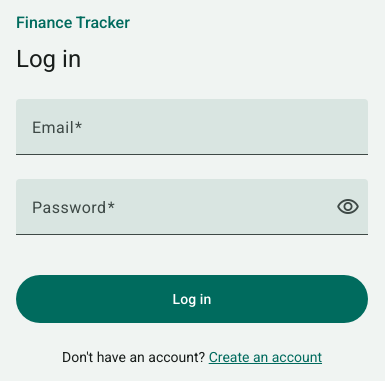
Scenario: LoginComponent › shows a loading state while logging in, then returns to returnUrl
Step 1. Type "kasia@example.com" into the field labelled "Email" → (192, 135), box x1=32 y1=123 x2=352 y2=147
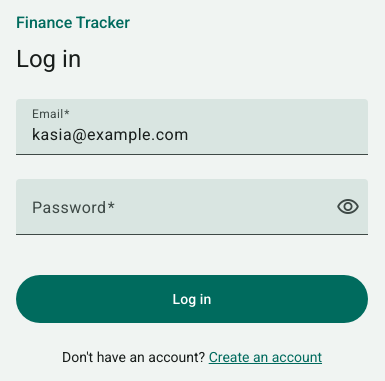
Step 2. Type "kasia2026" into the password field labelled "Password" → (178, 215), box x1=32 y1=203 x2=324 y2=227
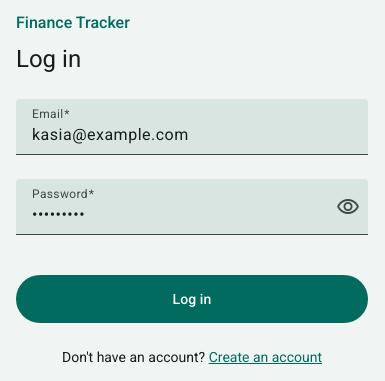
Step 3. Click the submit button → click(192, 299), box x1=16 y1=275 x2=368 y2=323
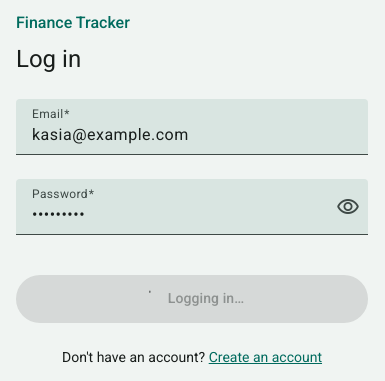
Expected: the submit button reads "Logging in…", x1=16 y1=275 x2=368 y2=323
